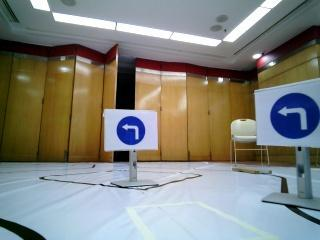left: (108, 108, 156, 146)
